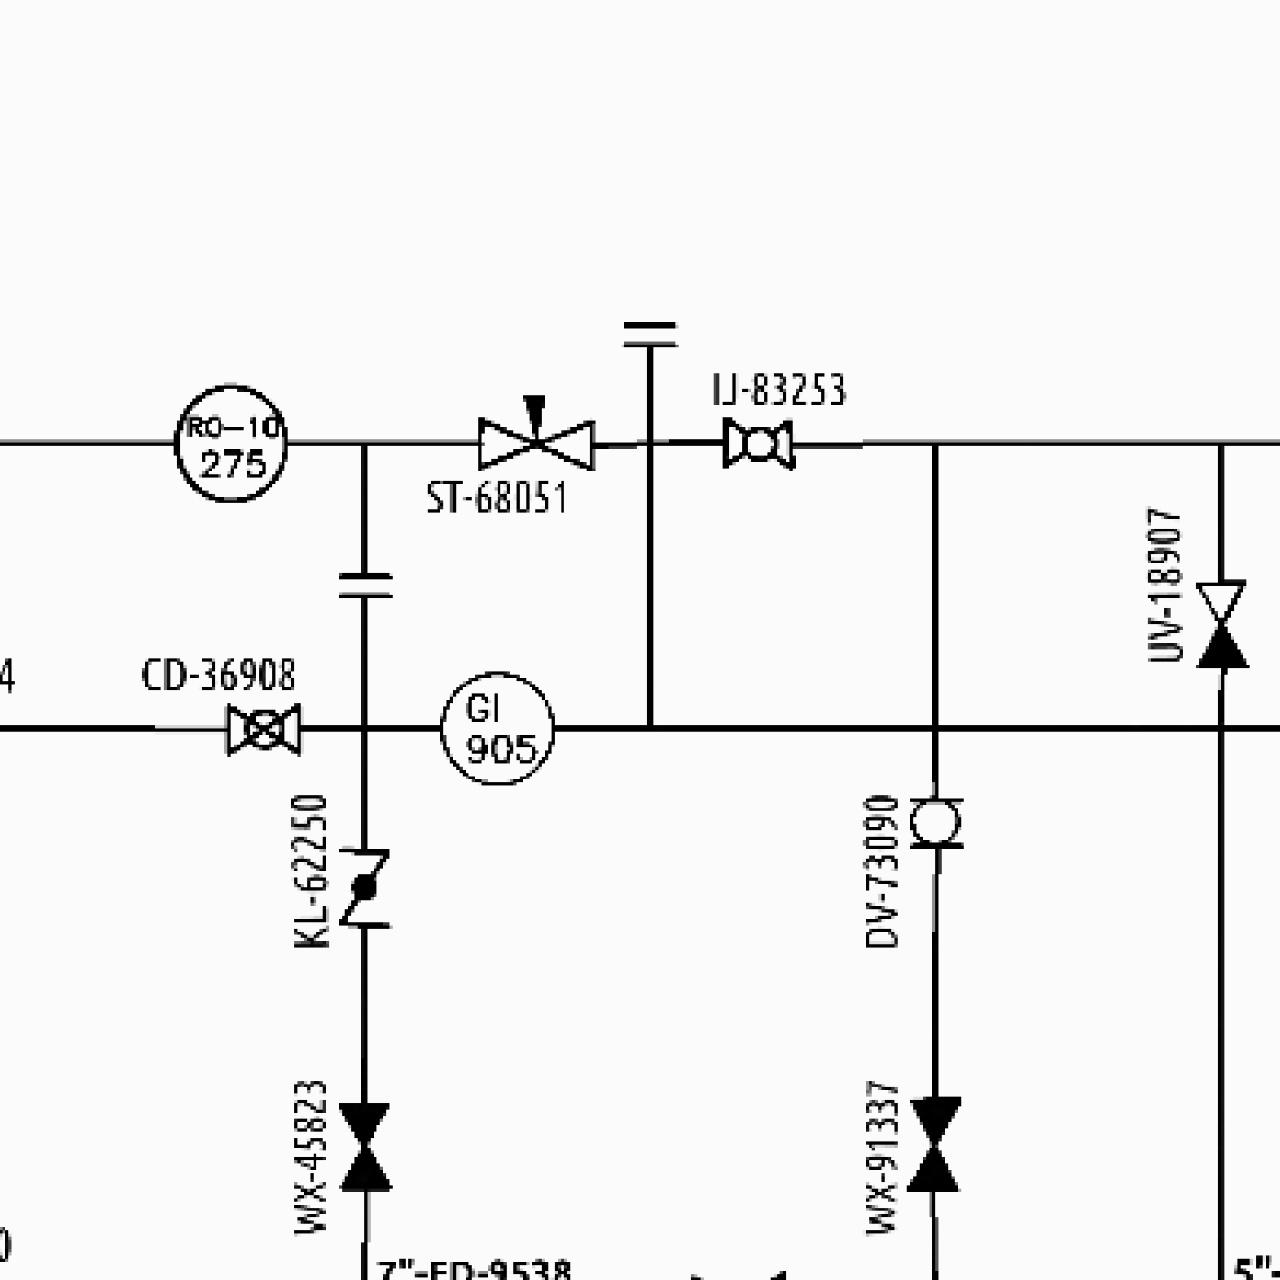Control-Panel: (166, 379, 294, 506)
Half closed valve: (1189, 576, 1252, 672)
